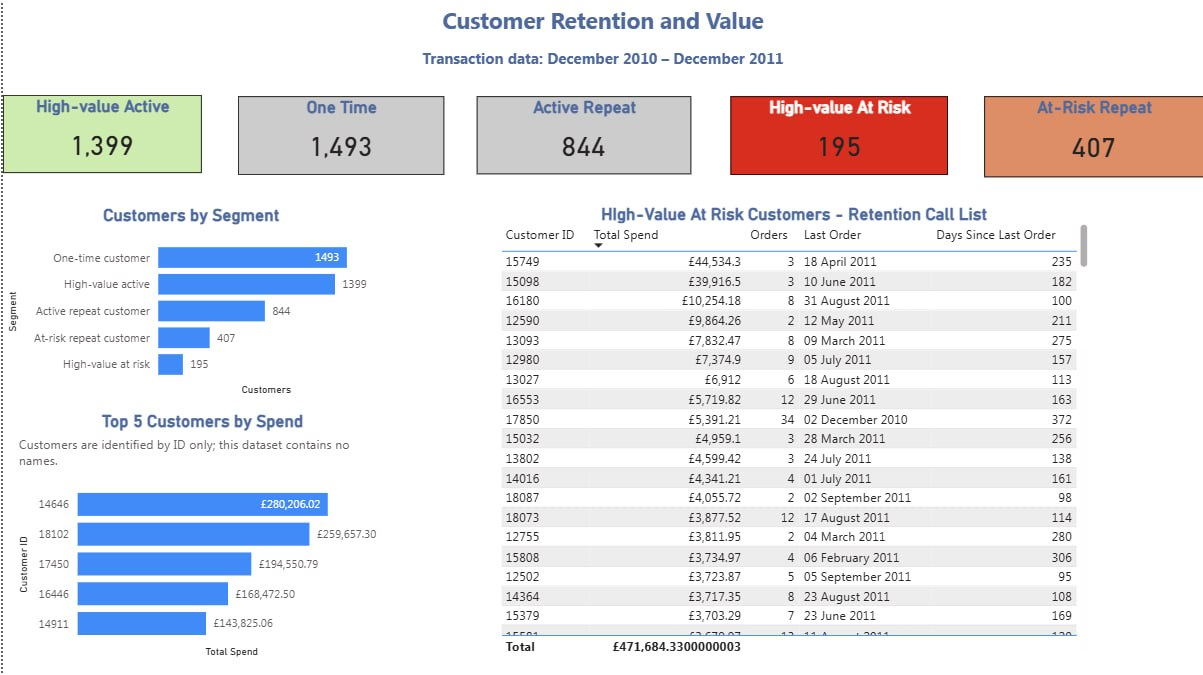

This screenshot's page, from the dashboard's own definition file:
{"tool":"powerbi","page":{"name":"Customer Retention","canvas":[1280,720],"ordinal":1},"visuals":[{"type":"textbox","box":[0,0,1280,65],"z":0},{"type":"textbox","box":[0,45,1280,40],"z":1000},{"type":"card","title":"High-value Active","fields":{"Values":["_Measures.High-Value Active Customers"]},"box":[0,101.7,211.7,83.3],"z":2000},{"type":"card","title":"High-value At Risk","fields":{"Values":["_Measures.High-Value At-Risk Customers"]},"box":[776,102,232,84],"z":3000},{"type":"card","title":"One Time","fields":{"Values":["_Measures.One-Time Customers"]},"box":[250,102,220,84],"z":4000},{"type":"card","title":"Active Repeat","fields":{"Values":["_Measures.Active Repeat Customers"]},"box":[505.7,102.1,228.6,82.9],"z":5000},{"type":"card","title":"At-Risk Repeat","fields":{"Values":["_Measures.At-Risk Repeat Customers"]},"box":[1046,102,234,86],"z":6000},{"type":"clusteredBarChart","fields":{"Category":["public vw_customer_profile.customer_segment"],"Y":["Count(public vw_customer_profile.customer_id)"]},"box":[0,218.3,401.7,208.3],"z":7000},{"type":"clusteredBarChart","title":"Top 5 Customers by Spend","fields":{"Category":["public vw_customer_profile.customer_id"],"Y":["Sum(public vw_customer_profile.total_spend)"]},"box":[11.7,438.3,401.7,266.7],"z":8000},{"type":"tableEx","title":"HIgh-Value At Risk Customers - Retention Call List","fields":{"Values":["public vw_customer_profile.customer_id","Sum(public vw_customer_profile.total_spend)","public vw_customer_profile.total_orders","public vw_customer_profile.last_order_date","public vw_customer_profile.days_since_last_order"]},"box":[525.5,217.6,637.3,486.3],"z":9000}]}

Visuals, with their boxes in screenshot pixels (x1, y1, x2, y2), scaled from the page's 1280x720 canvas onto the 1203x675 screenshot:
textbox: 0:0:1202:61
textbox: 0:42:1202:80
"High-value Active" card: 0:95:199:173
"High-value At Risk" card: 729:96:947:174
"One Time" card: 235:96:442:174
"Active Repeat" card: 475:96:690:173
"At-Risk Repeat" card: 983:96:1202:176
clusteredBarChart - public vw_customer_profile.customer_segment x Count(public vw_customer_profile.customer_id): 0:205:378:400
"Top 5 Customers by Spend" clusteredBarChart: 11:411:389:661
"HIgh-Value At Risk Customers - Retention Call List" tableEx: 494:204:1093:660
